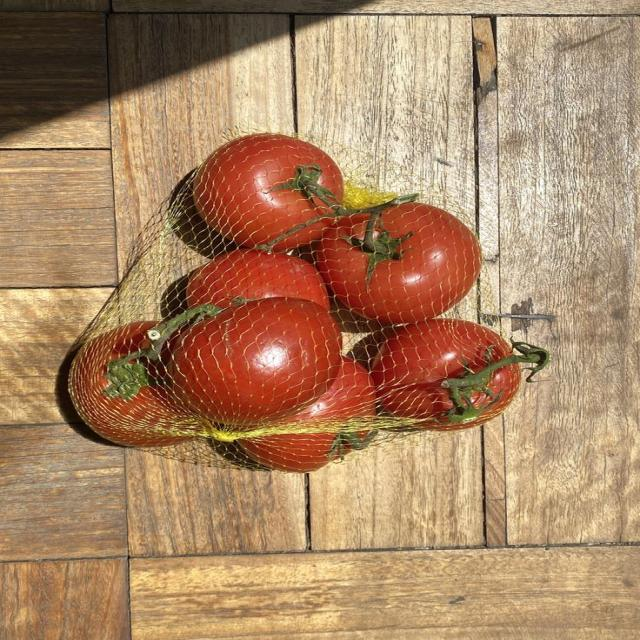tomato: (168, 298, 341, 426), (315, 203, 480, 323), (194, 134, 343, 246), (371, 319, 520, 429), (238, 357, 375, 472), (69, 321, 189, 446), (187, 249, 329, 309)
